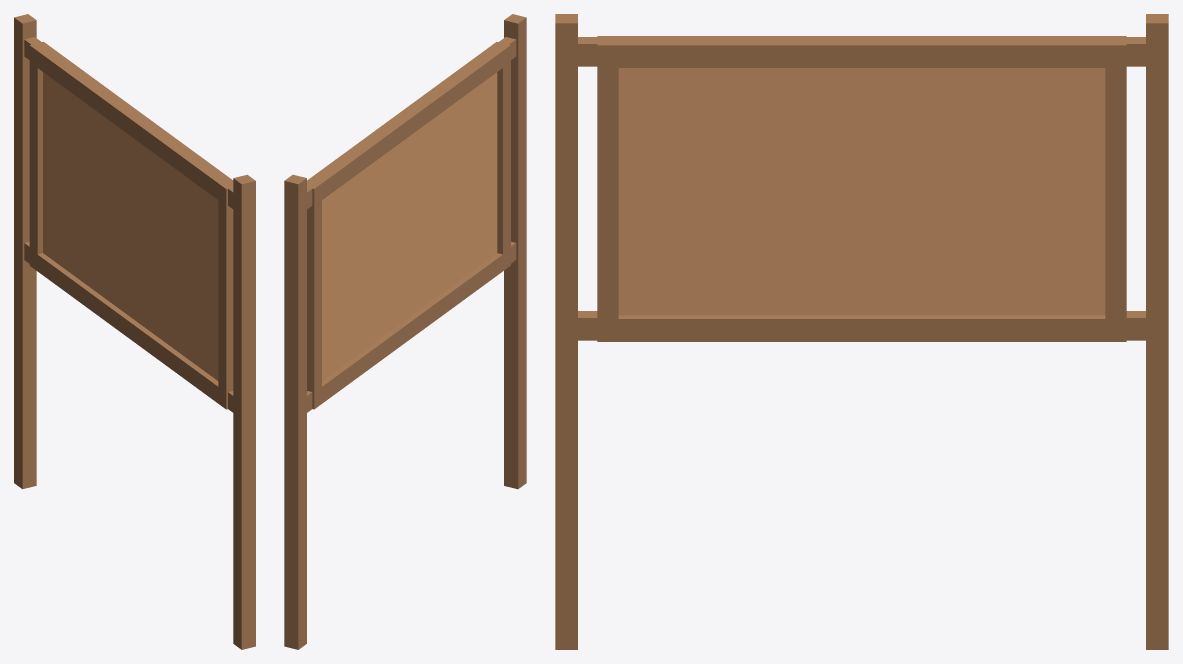
The model's file is landmark_sign.glb.
The picture shows the model from 3 angles, left to right: view 1: azimuth 30°, elevation 25°; view 2: azimuth 150°, elevation 25°; view 3: azimuth 270°, elevation 25°; orthographic projection. The views are drawn at different scales.
Parts seen in each view (by area): view 1: Cube; view 2: Cube; view 3: Cube.
Boxes of the visible parts, x1,y1,x2,y2 form: Cube: [14, 14, 255, 649]; Cube: [284, 14, 526, 649]; Cube: [555, 14, 1168, 649].
Size of the model in its own units: 0.082 by 2.54 by 2.26.
